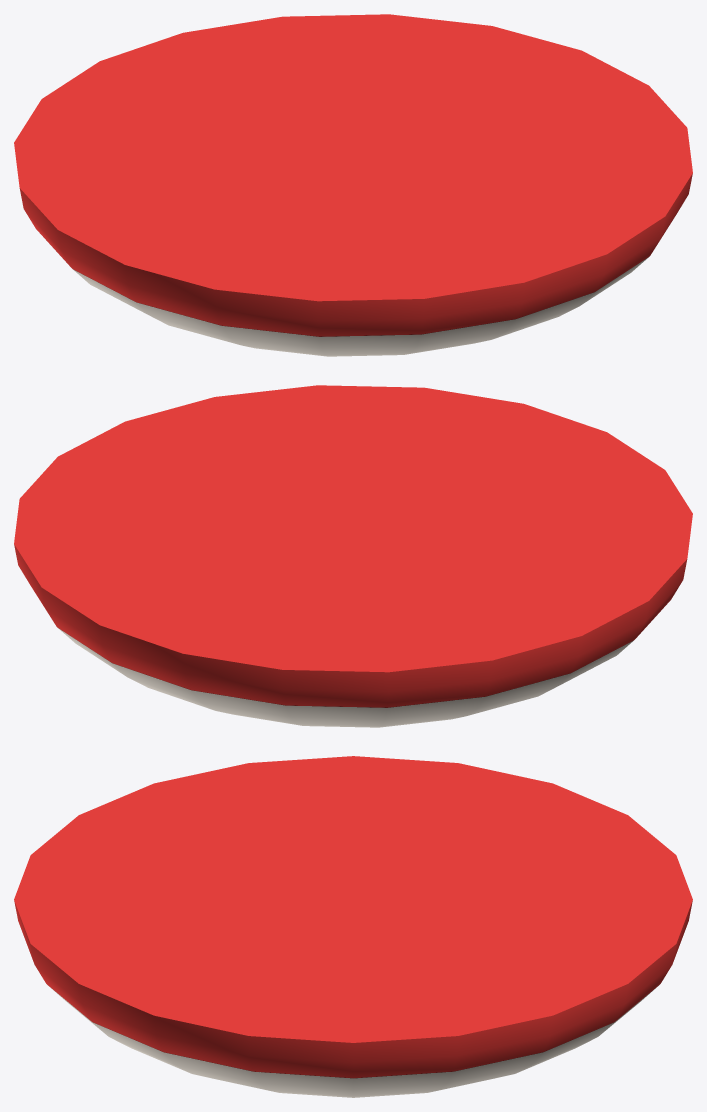
Rendered from lamparaMarceline.obj.
The picture shows the model from 3 angles, top to bottom: view 1: azimuth 30°, elevation 25°; view 2: azimuth 150°, elevation 25°; view 3: azimuth 270°, elevation 25°; orthographic projection.
Visible parts, largest first — view 1: lamparaMarceline_pSphere1; view 2: lamparaMarceline_pSphere1; view 3: lamparaMarceline_pSphere1.
Part boxes in pixels (x1,y1,x2,y2): lamparaMarceline_pSphere1: (14, 14, 692, 356); lamparaMarceline_pSphere1: (14, 385, 692, 727); lamparaMarceline_pSphere1: (14, 756, 692, 1097).
Size of the model in its own units: 2.47 by 0.5512 by 2.47.
1 material, 1 textured.
